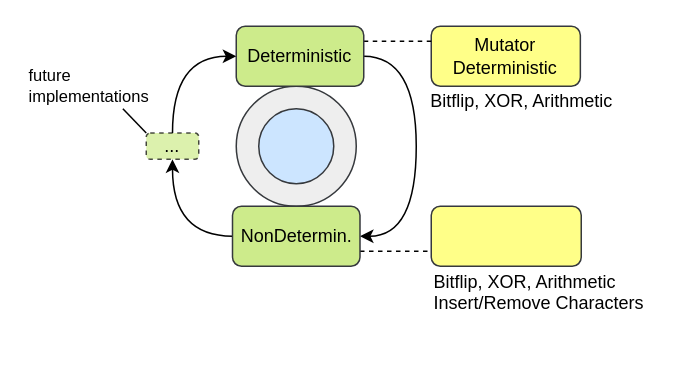
The diagram is 696 pixels wide and 368 high, and some of its shapes have lost their labels. Here are the shapes that lost their labels. From the top down, the box of each, then its label:
(257, 107, 334, 184): Scheduler
(430, 205, 581, 266): Mutator NonDeterministic
